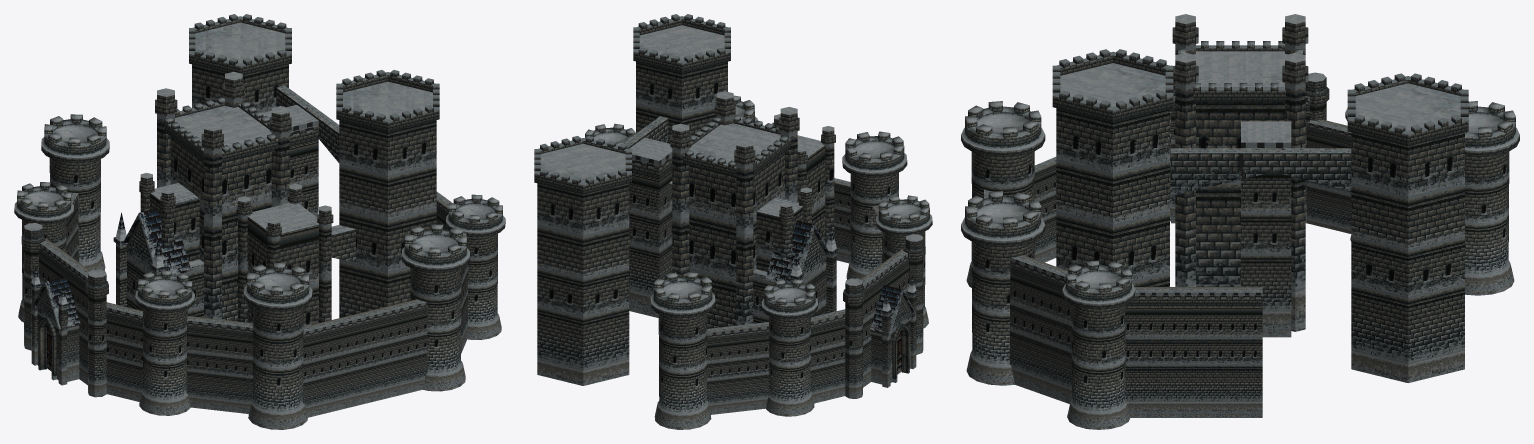
File: EnvObjMD_MayCastle_A.FBX
3 renders of one model, left to right at view 1: azimuth 30°, elevation 25°; view 2: azimuth 150°, elevation 25°; view 3: azimuth 270°, elevation 25°, orthographic. The views are drawn at different scales.
Parts seen in each view (by area): view 1: EnvObjMD_MayCastle_A; view 2: EnvObjMD_MayCastle_A; view 3: EnvObjMD_MayCastle_A.
Part boxes in pixels (<box>): EnvObjMD_MayCastle_A: <box>14,14,505,429</box>; EnvObjMD_MayCastle_A: <box>534,14,932,429</box>; EnvObjMD_MayCastle_A: <box>961,14,1519,429</box>.
Bounding box in the file's own units: 2074 × 1254 × 2164.
1 material, 1 textured.
